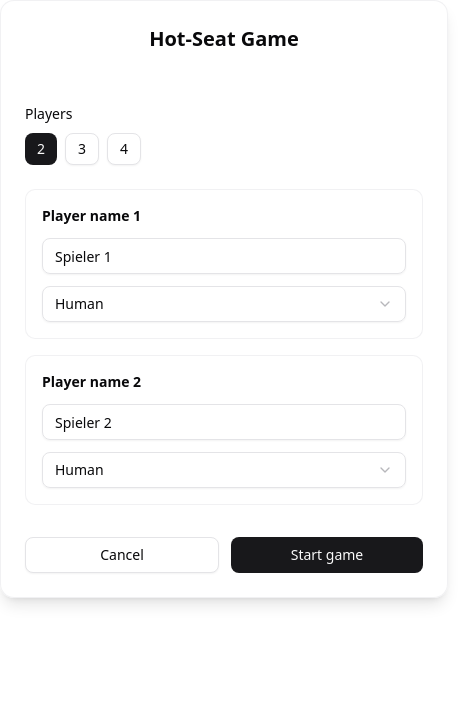
it: HotSeatSetup › disables start button when all players are AI
The image size is (465, 720).
Click the dropdown named "Player type" at (79, 304), box [42, 286, 406, 322]
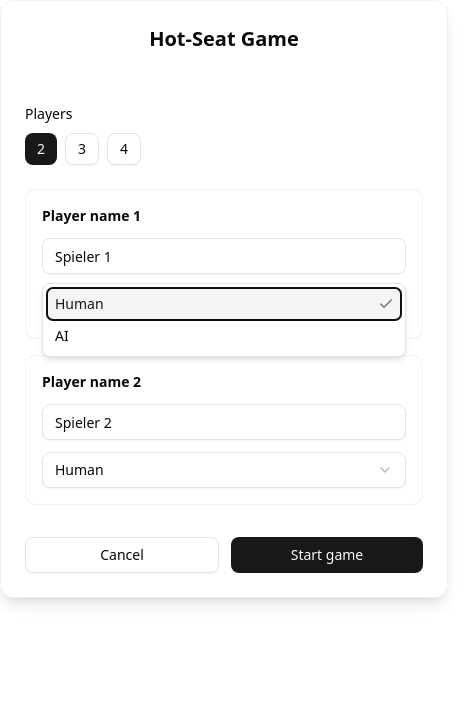
Click the option "AI" at (62, 336), box [55, 326, 69, 345]
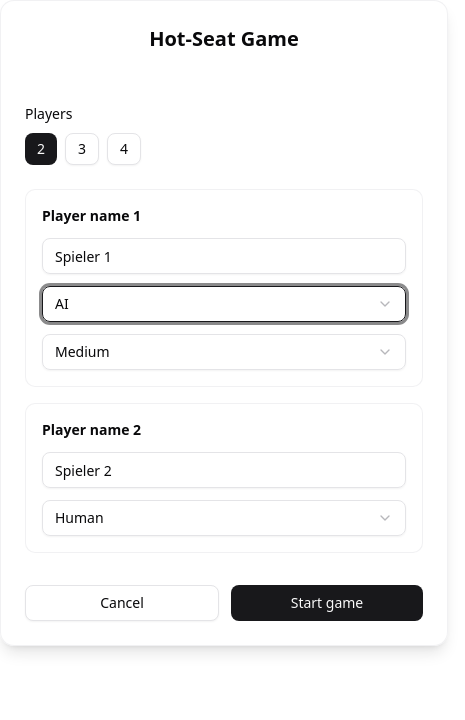
Click the dropdown named "Player type" at (79, 518), box [42, 500, 406, 536]
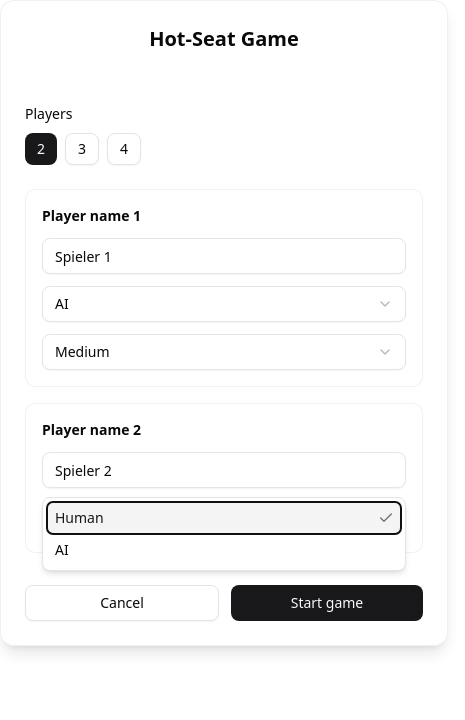
Click the option "AI" at (62, 550), box [55, 540, 69, 559]
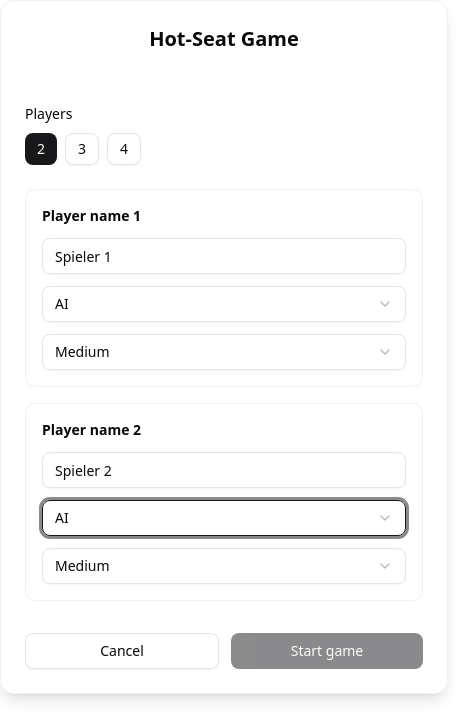
Expected: the button "Start game" is disabled, [231, 633, 423, 669]
